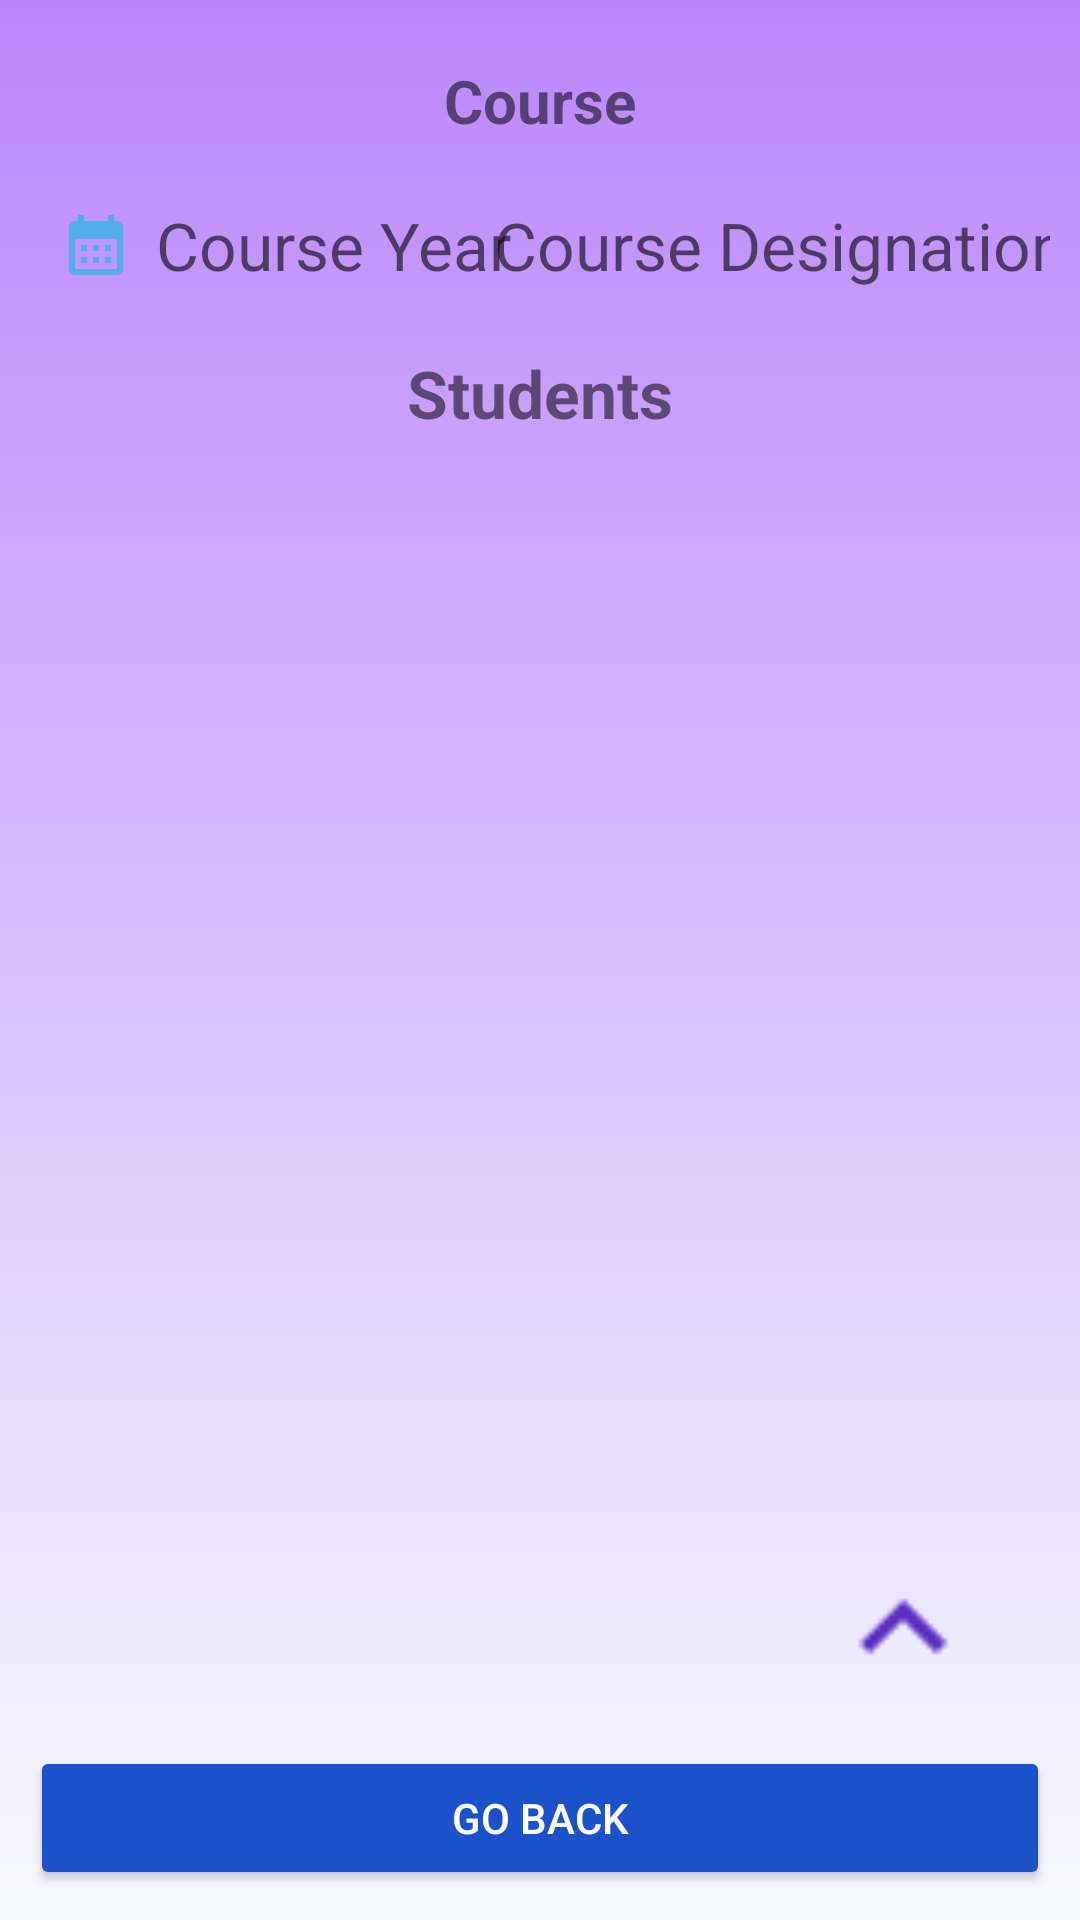

Screen size 1080px x 1920px. Icon name, then its box in pixels as bbox=(x1, y1, x2, y2):
Order by Asc: bbox=(859, 1599, 948, 1654)
